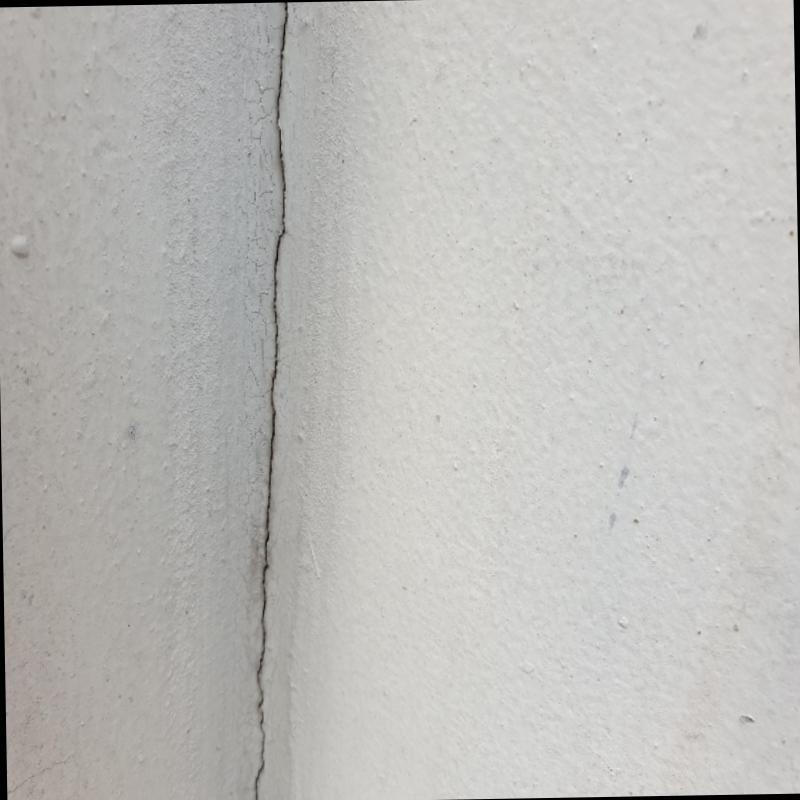pothole: (251, 2, 290, 800)
